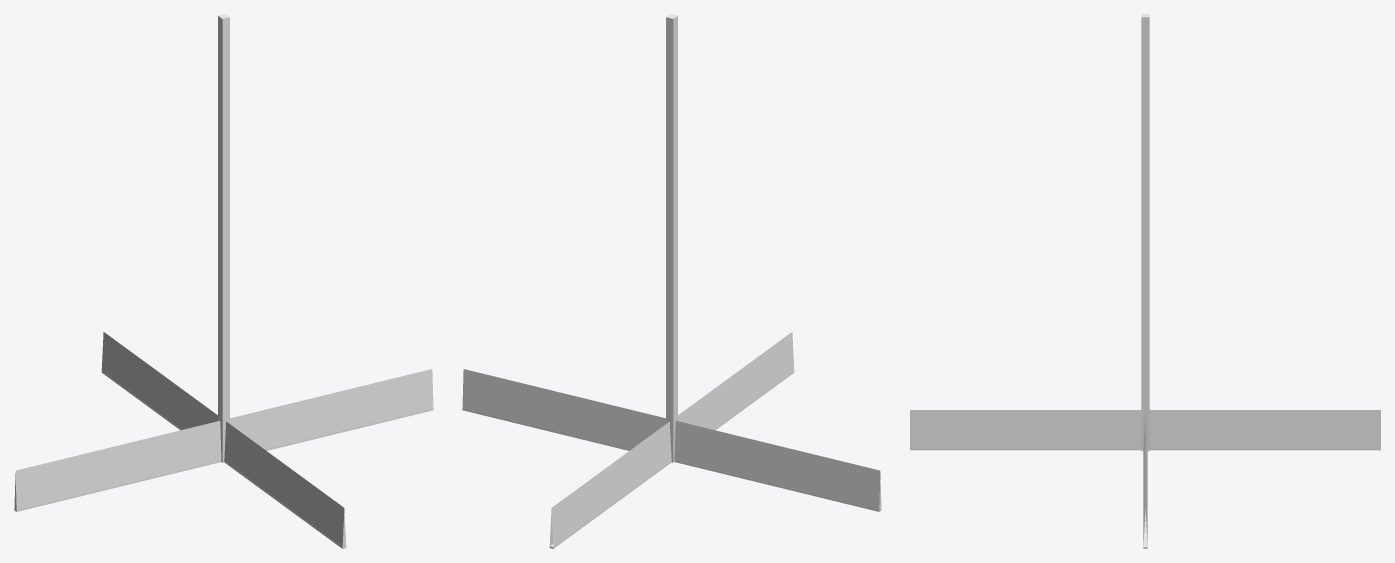
Rendered from path.fbx.
The picture shows the model from 3 angles, left to right: view 1: azimuth 30°, elevation 25°; view 2: azimuth 150°, elevation 25°; view 3: azimuth 270°, elevation 25°; orthographic projection. The views are drawn at different scales.
Visible parts, largest first — view 1: left, right, backwards, up, forward; view 2: left, right, forward, up, backwards; view 3: backwards, forward, up, right.
Boxes of the visible parts, x1,y1,x2,y2 form: left: (14,421,221,511); right: (230,369,433,450); backwards: (224,422,346,548); up: (218,14,229,461); forward: (101,332,217,430); left: (674,421,881,511); right: (462,369,665,450); forward: (549,422,671,548); up: (666,14,677,461); backwards: (678,332,794,430); backwards: (910,410,1141,450); forward: (1149,410,1380,450); up: (1141,14,1149,448); right: (1143,412,1147,548).
Bounding box in the file's own units: 19.74 × 20.08 × 19.76.
Materials: 1 (1 with a texture image).
